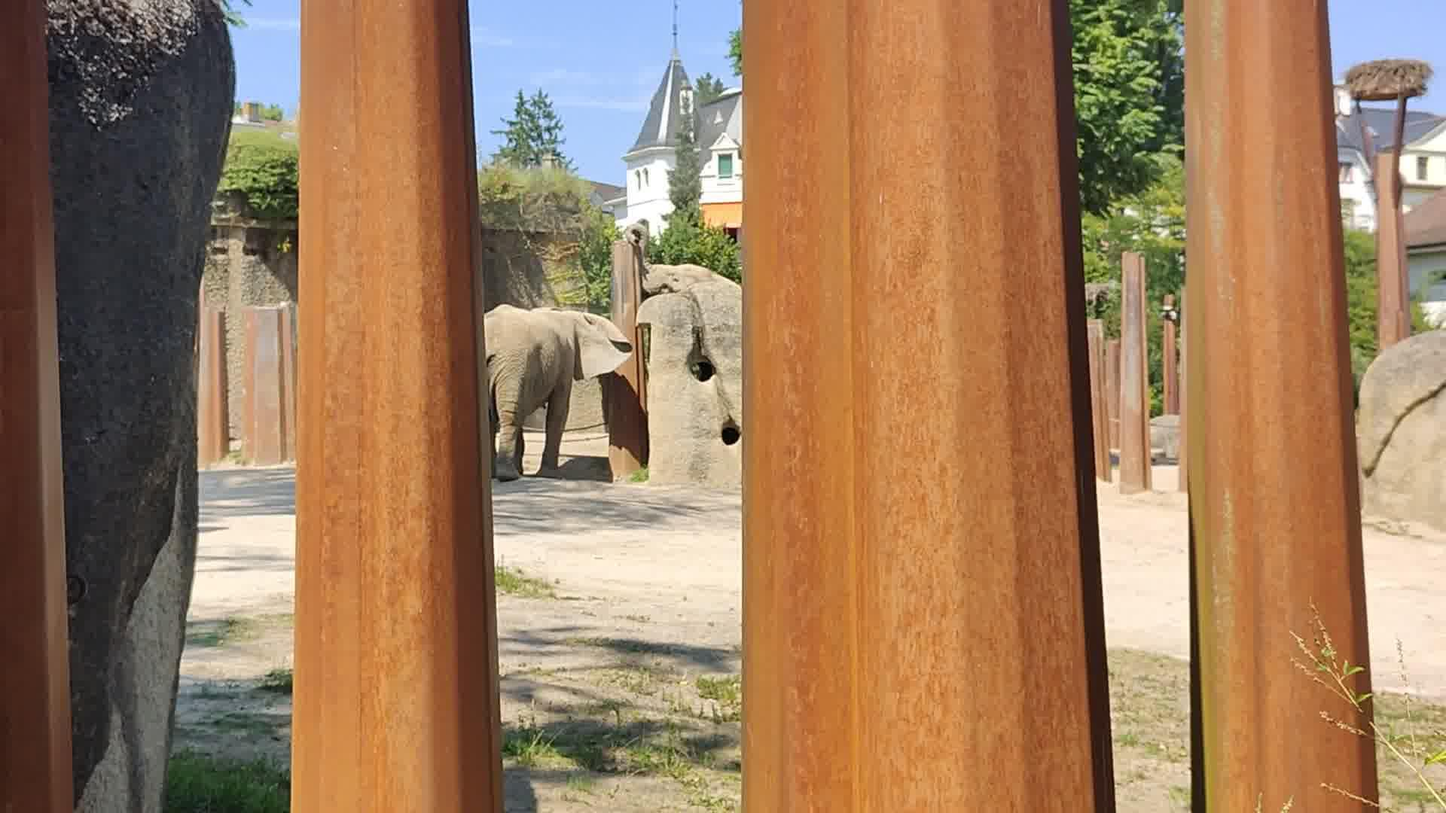raccoon: (484, 303, 634, 484), (625, 223, 733, 295)
